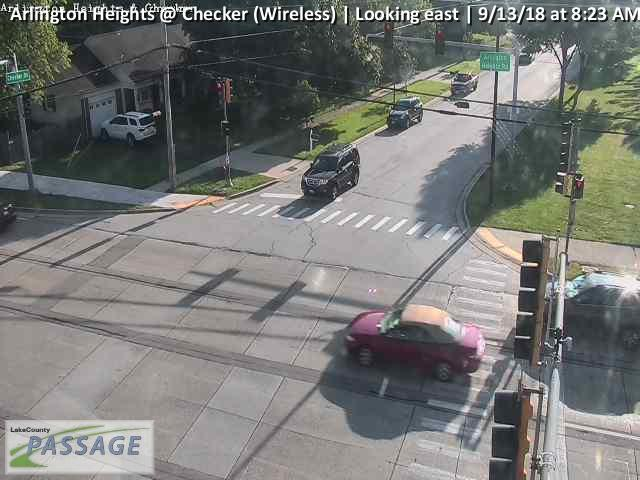SUV: (299, 142, 361, 200), (99, 111, 159, 147), (386, 96, 424, 130)
Sedan: (344, 303, 485, 381), (543, 273, 640, 349), (518, 49, 537, 65)
Truck: (449, 72, 480, 96)
